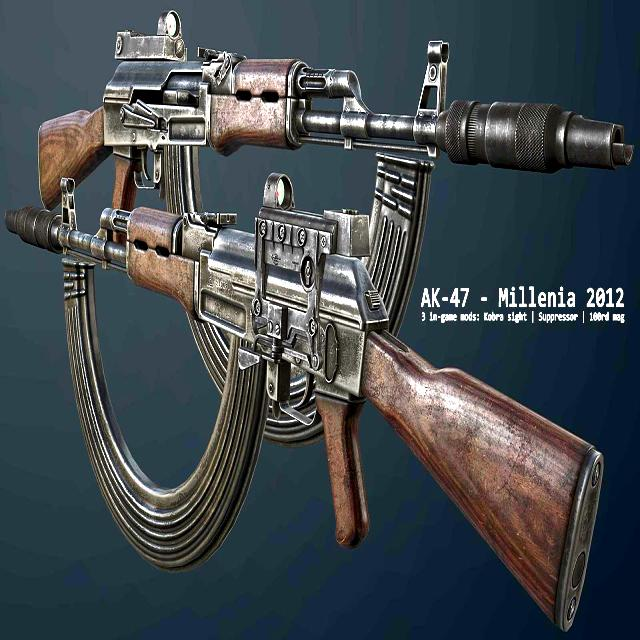ak: (24, 178, 603, 640), (39, 43, 628, 230)
